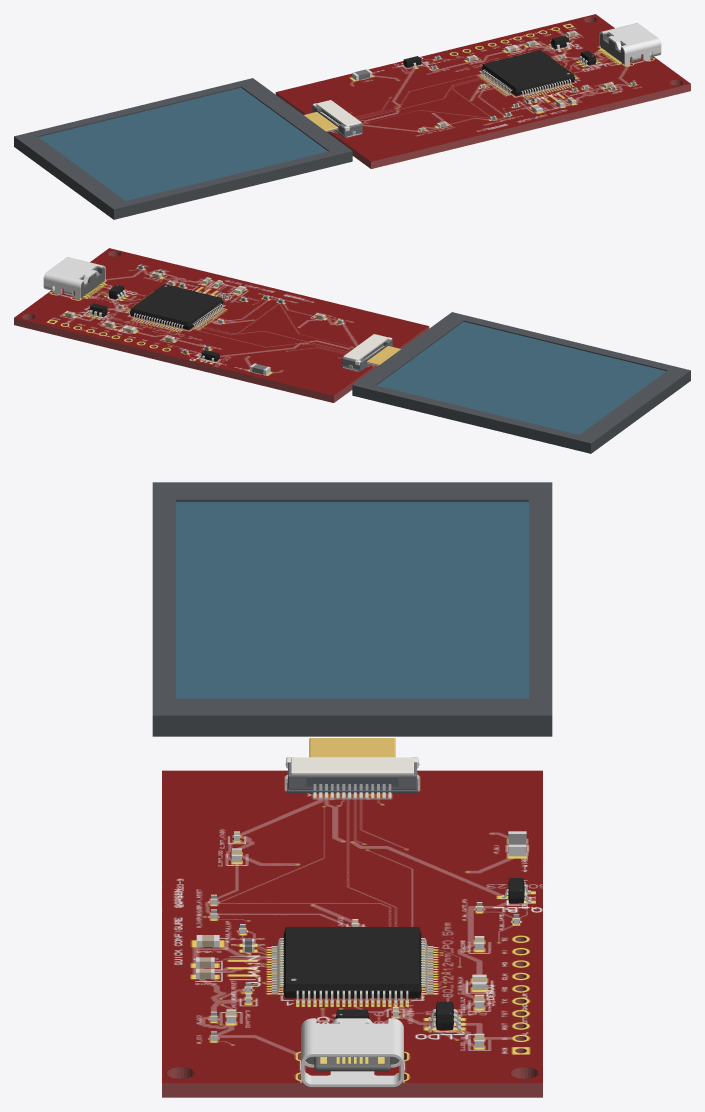
3 views of the same model, one above another, from view 1: azimuth 30°, elevation 25°; view 2: azimuth 150°, elevation 25°; view 3: azimuth 270°, elevation 25° (orthographic). The views are drawn at different scales.
Visible parts, largest first — view 1: J_DISPLAY, Box0, U_MAIN, J_USB; view 2: J_DISPLAY, Box0, U_MAIN, J_USB; view 3: J_DISPLAY, Box0, U_MAIN, J_USB.
Part boxes in pixels (x1,y1,x2,y2): J_DISPLAY: (14, 78, 363, 219); Box0: (275, 14, 690, 168); U_MAIN: (479, 50, 577, 97); J_USB: (599, 23, 661, 65); J_DISPLAY: (341, 312, 690, 453); Box0: (14, 248, 429, 402); U_MAIN: (127, 284, 225, 331); J_USB: (43, 257, 105, 299); J_DISPLAY: (152, 482, 552, 798); Box0: (162, 770, 542, 1097); U_MAIN: (271, 927, 433, 1004); J_USB: (301, 1018, 403, 1087).
Bounding box in the file's own units: 117 × 4.73 × 34.6.
25 materials, 2 textured.
